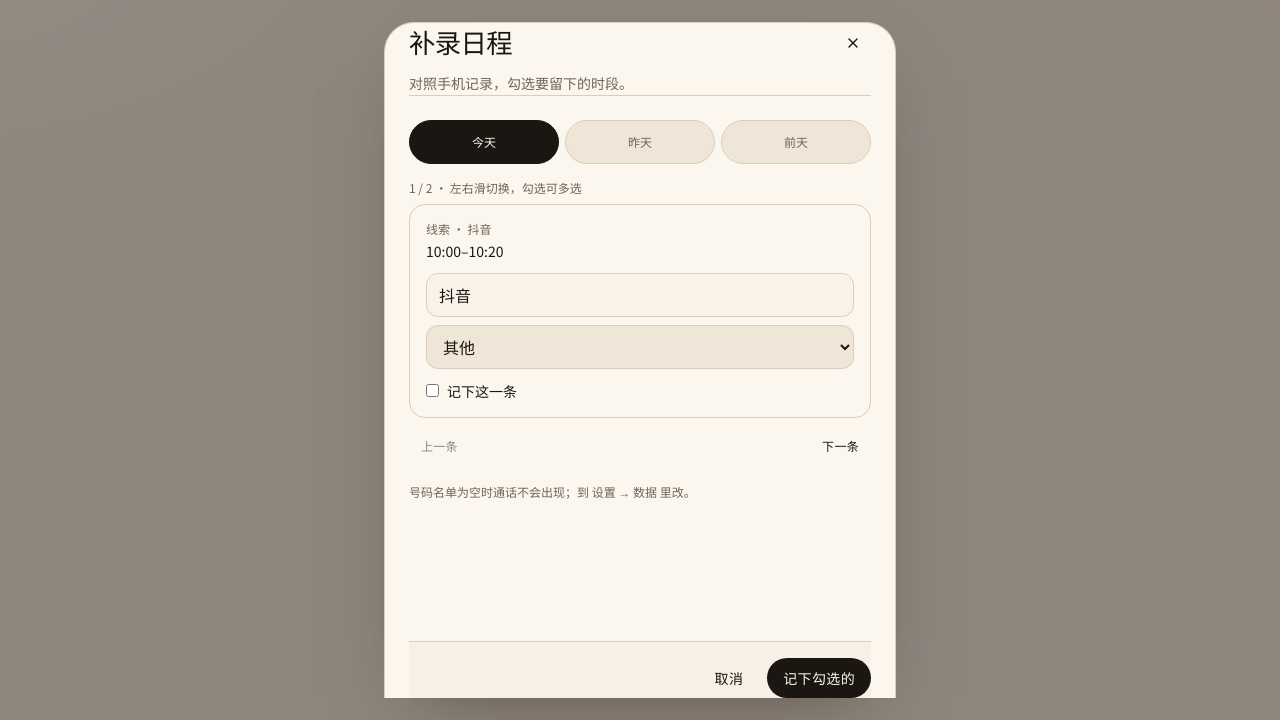
Test: DayReplayEntry › shows a saved cue later, unchecked, with 已补录
Expected: the text "线索 · 抖音" is shown, top-left (426, 220), bottom-right (491, 237)
Expected: the text "已补录" is not shown
Click the button "下一条" at (841, 446), box top-left (810, 426), bottom-right (871, 466)
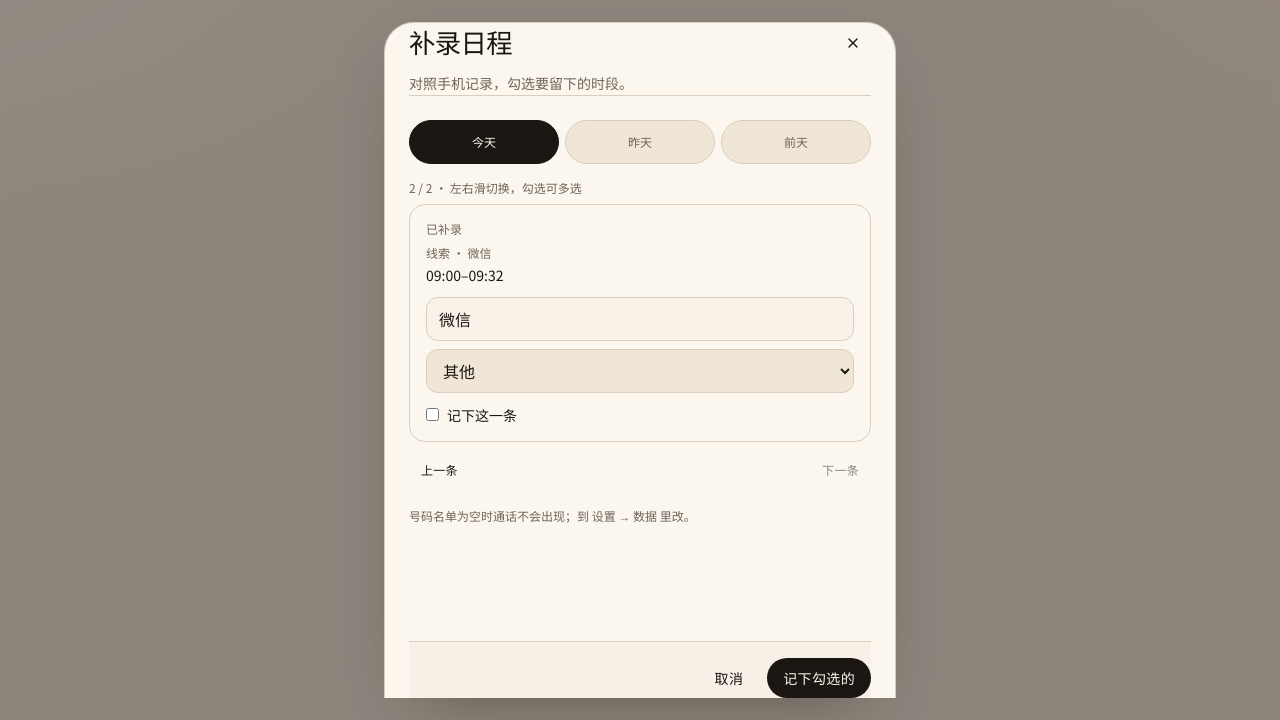
Expected: the checkbox is not checked, top-left (426, 408), bottom-right (439, 422)
Result: the text "线索 · 微信" is shown at top-left (426, 244), bottom-right (491, 261)
Result: the text "已补录" is shown at top-left (426, 220), bottom-right (462, 237)
